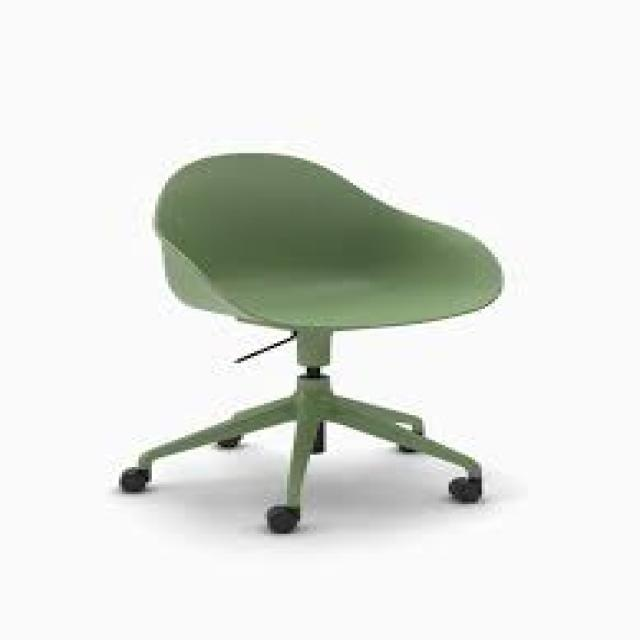chair: (41, 113, 584, 593)
